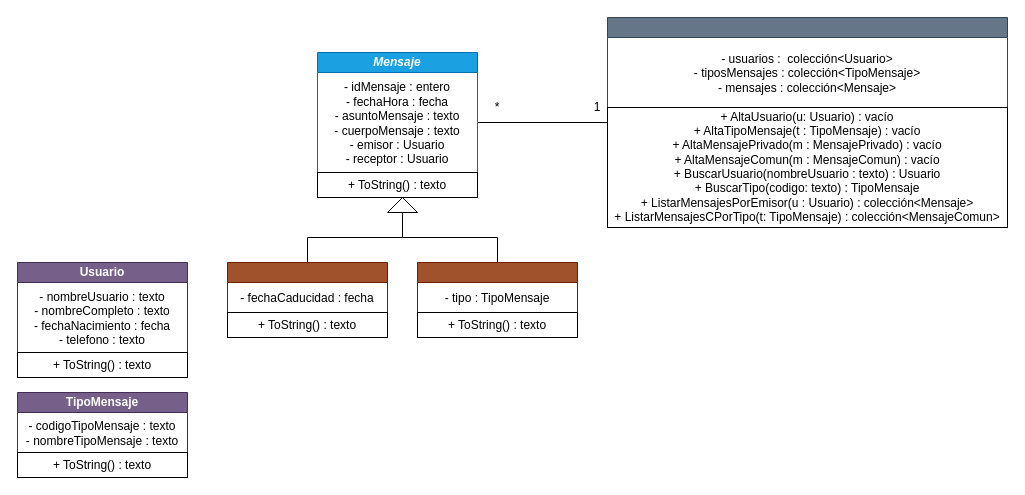
Some shapes in this 1025 by 495 pixel diagram are drawn without their labels. The box of each missing label's shape, as (x1, y1, x2, y2) in pixels:
Logica: (606, 16, 1008, 228)
MensajeComun: (416, 262, 578, 338)
MensajePrivado: (226, 262, 388, 338)
